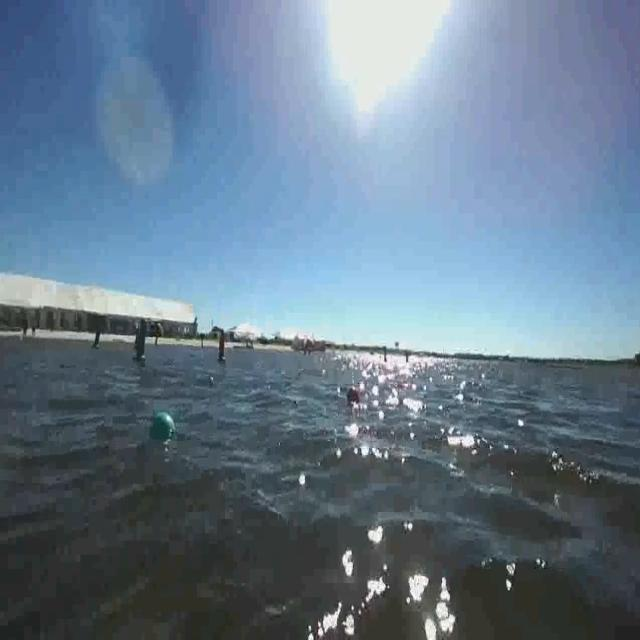green-buoy: (149, 412, 174, 442)
green-column-buoy: (132, 320, 148, 364)
red-buoy: (348, 385, 361, 404)
red-column-buoy: (216, 329, 226, 364)
